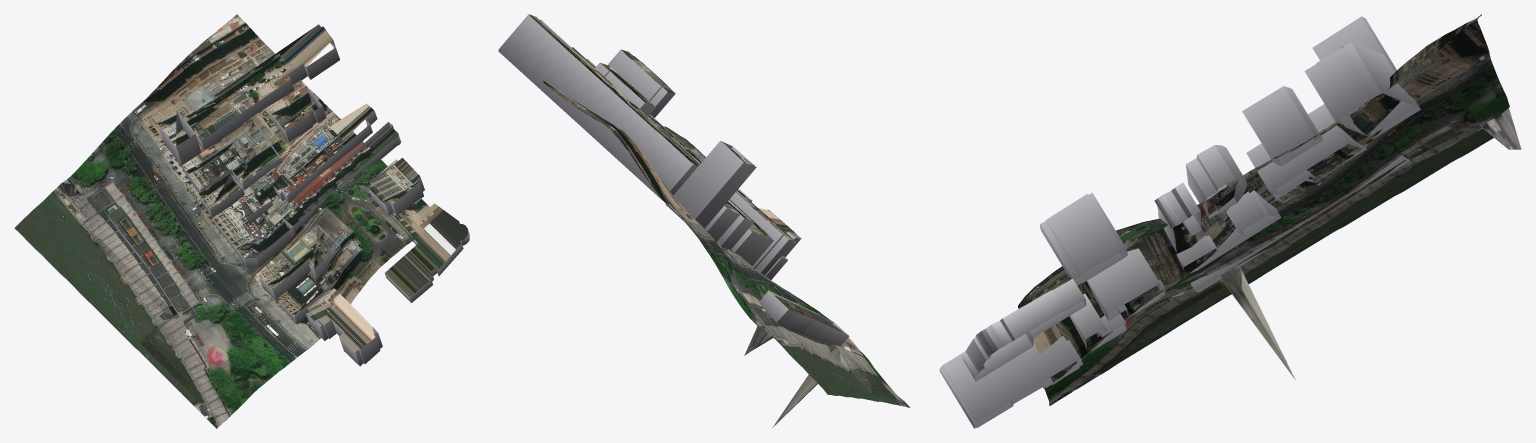
3 views of the same model, side by side, from view 1: azimuth 30°, elevation 25°; view 2: azimuth 150°, elevation 25°; view 3: azimuth 270°, elevation 25° (orthographic). The views are drawn at different scales.
Size of the model in its own units: 304 by 278 by 280.
Materials: 1 (1 with a texture image).
